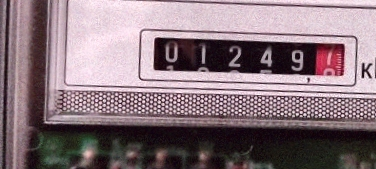0: (162, 37, 181, 64)
1: (194, 38, 210, 65)
2: (225, 43, 243, 70)
4: (258, 42, 275, 68)
7: (322, 40, 338, 67)
9: (287, 46, 305, 73)
screen: (135, 16, 362, 100)
